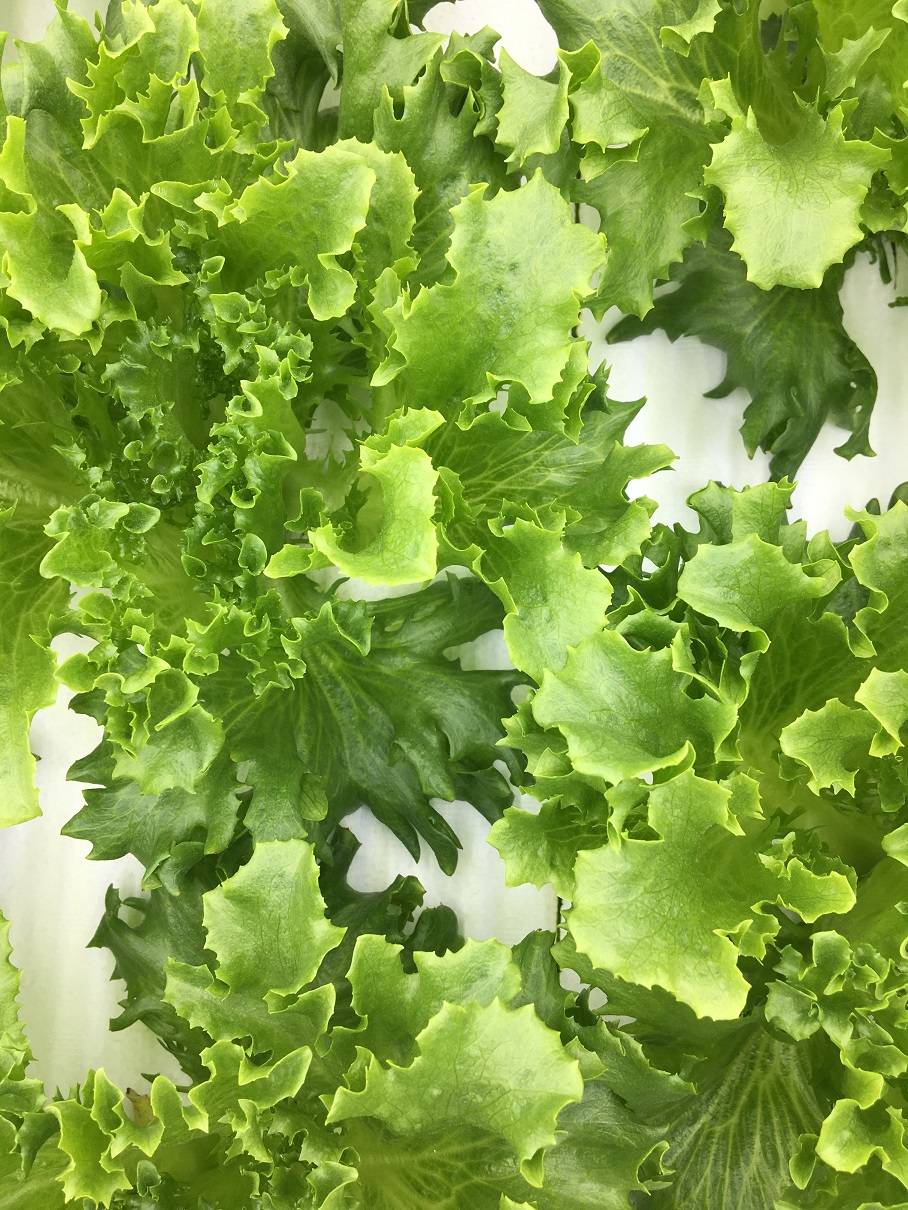tipburn: (118, 1079, 147, 1108)
